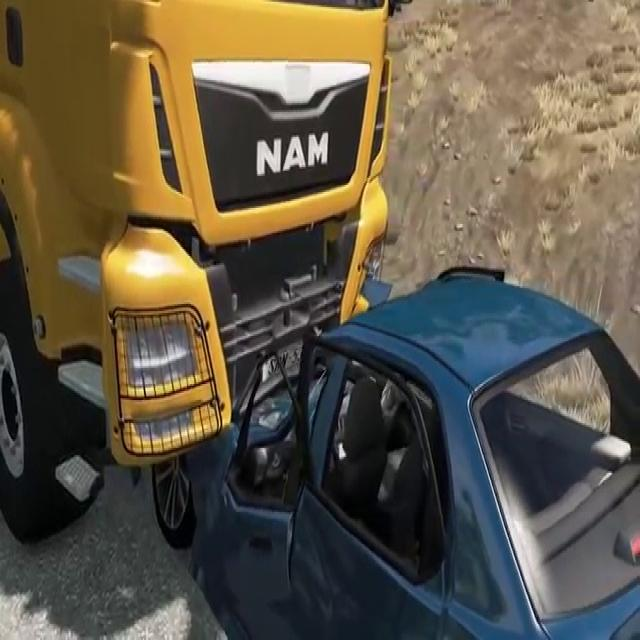severe: (0, 0, 640, 626)
